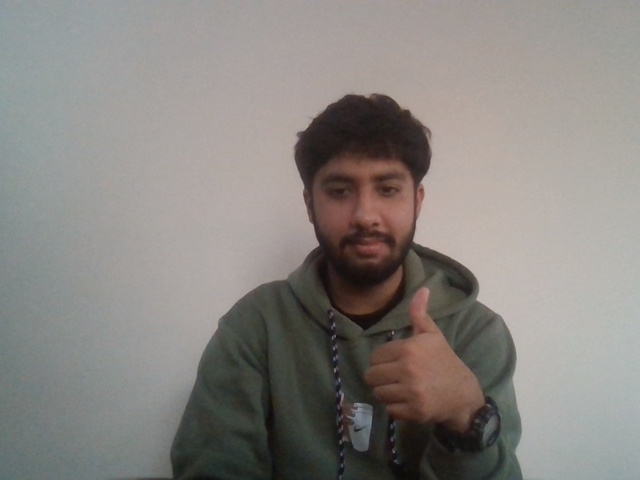Yes: (354, 286, 476, 423)
